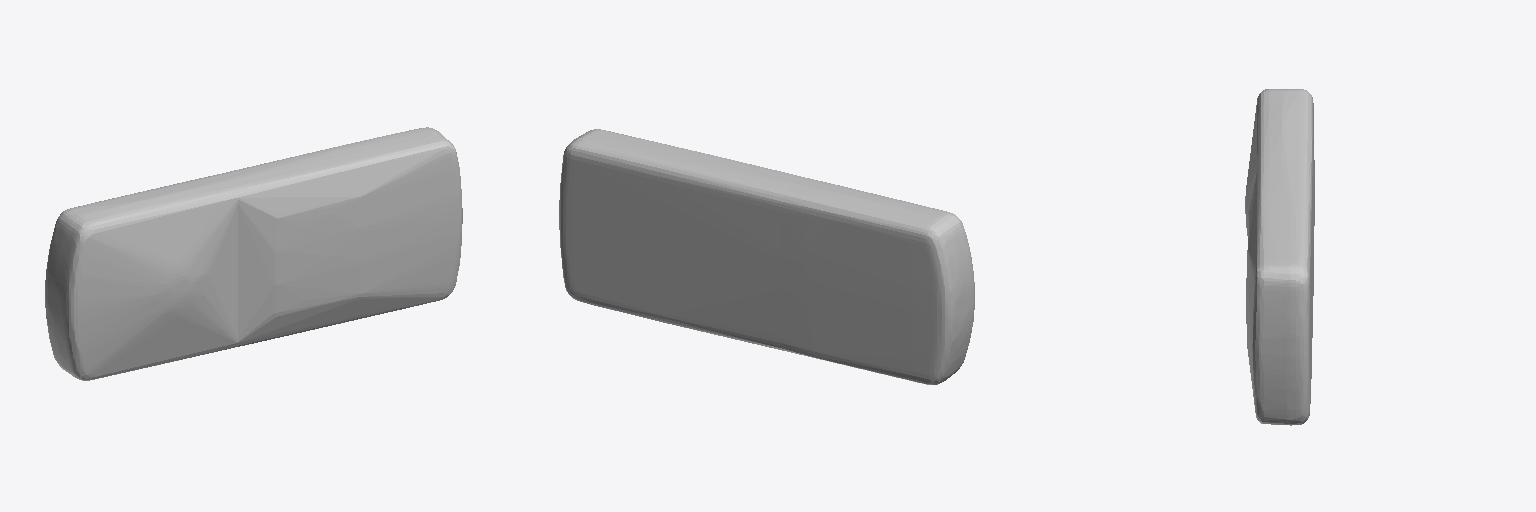
File: coacd_collision.obj
3 views of the same model, side by side, from view 1: azimuth 30°, elevation 25°; view 2: azimuth 150°, elevation 25°; view 3: azimuth 270°, elevation 25° (orthographic).
Visible parts, largest first — view 1: geometry_1, geometry_0; view 2: geometry_1, geometry_0; view 3: geometry_1, geometry_0.
Boxes of the visible parts, x1=… form: geometry_1: x1=215, y1=127, x2=462, y2=346; geometry_0: x1=45, y1=175, x2=237, y2=380; geometry_1: x1=559, y1=129, x2=804, y2=350; geometry_0: x1=781, y1=178, x2=974, y2=384; geometry_1: x1=1246, y1=161, x2=1313, y2=425; geometry_0: x1=1245, y1=89, x2=1314, y2=295.
Bounding box in the file's own units: 151 × 59.73 × 22.89.